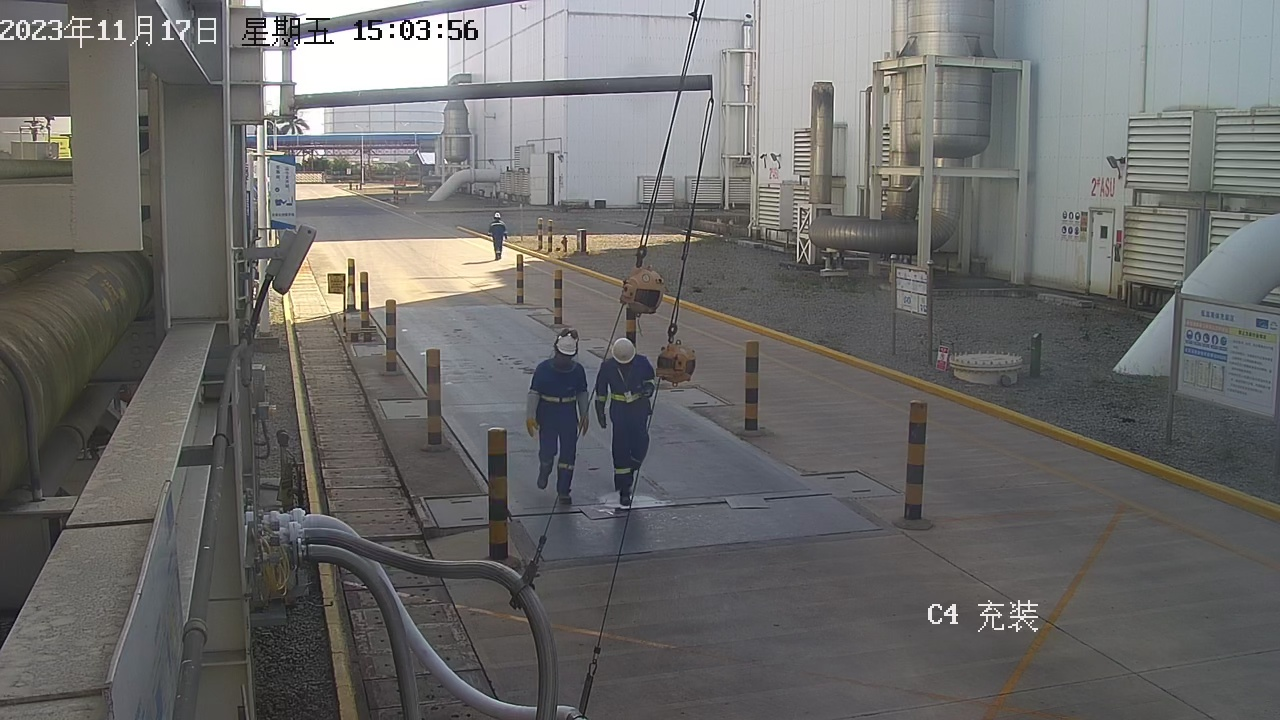Head_with_Helmet: (535, 325, 598, 373), (600, 329, 660, 376), (491, 210, 505, 222)
Uniform: (594, 356, 680, 511), (519, 355, 601, 506), (485, 218, 515, 264)
